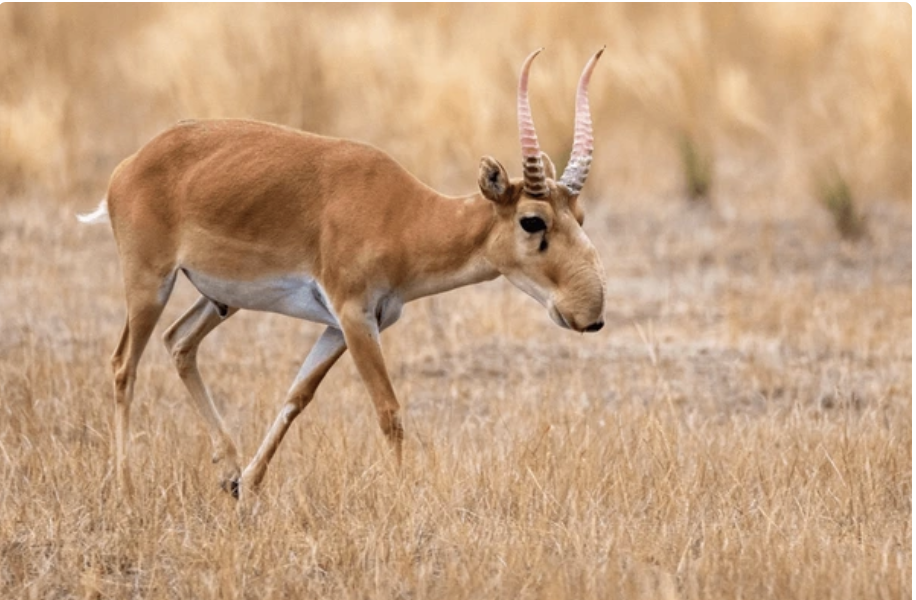saiga: (89, 44, 610, 504)
